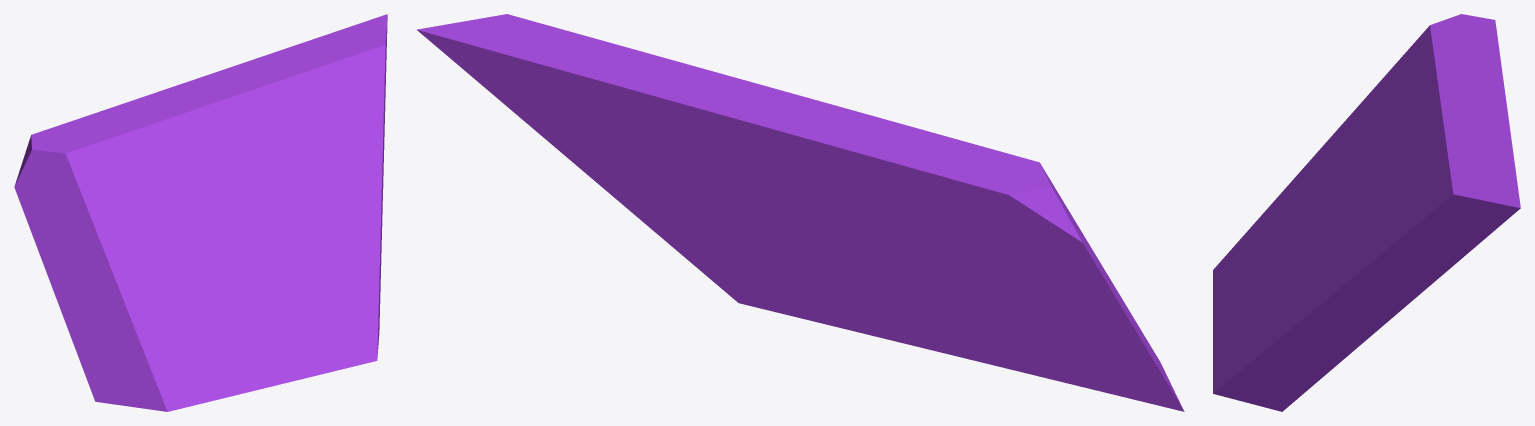
The model's file is Window_128_1_chunks.fbx.
3 renders of one model, left to right at view 1: azimuth 30°, elevation 25°; view 2: azimuth 150°, elevation 25°; view 3: azimuth 270°, elevation 25°, orthographic. The views are drawn at different scales.
Visible parts, largest first — view 1: Window_128_1_1, Window_128_1_4, Window_128_1_8, Window_128_1_2, Window_128_1_9, Window_128_1_5, Window_128_1_6, Window_128_1_7; view 2: Window_128_1_1, Window_128_1_7, Window_128_1_3, Window_128_1_9, Window_128_1_2, Window_128_1_6, Window_128_1_8, Window_128_1_5, Window_128_1_0; view 3: Window_128_1_8, Window_128_1_1, Window_128_1_4, Window_128_1_7, Window_128_1_9, Window_128_1_5, Window_128_1_2, Window_128_1_3, Window_128_1_6.
Part boxes in pixels (<box>): Window_128_1_1: <box>14,105,206,380</box>; Window_128_1_4: <box>217,259,379,399</box>; Window_128_1_8: <box>257,98,384,246</box>; Window_128_1_2: <box>87,254,226,411</box>; Window_128_1_9: <box>146,54,356,161</box>; Window_128_1_5: <box>182,213,381,290</box>; Window_128_1_6: <box>118,96,256,218</box>; Window_128_1_7: <box>254,14,387,149</box>; Window_128_1_1: <box>864,120,1173,394</box>; Window_128_1_7: <box>417,14,757,197</box>; Window_128_1_3: <box>654,231,987,363</box>; Window_128_1_9: <box>555,27,861,162</box>; Window_128_1_2: <box>927,280,1184,411</box>; Window_128_1_6: <box>756,113,886,242</box>; Window_128_1_8: <box>561,152,803,239</box>; Window_128_1_5: <box>683,233,946,301</box>; Window_128_1_0: <box>855,193,1004,303</box>; Window_128_1_8: <box>1309,174,1414,357</box>; Window_128_1_1: <box>1281,14,1501,192</box>; Window_128_1_4: <box>1213,235,1294,402</box>; Window_128_1_7: <box>1412,138,1520,298</box>; Window_128_1_9: <box>1387,80,1511,198</box>; Window_128_1_5: <box>1290,170,1357,347</box>; Window_128_1_2: <box>1213,178,1330,298</box>; Window_128_1_3: <box>1247,337,1344,411</box>; Window_128_1_6: <box>1344,66,1503,210</box>.
Size of the model in its own units: 816 by 431 by 450.
